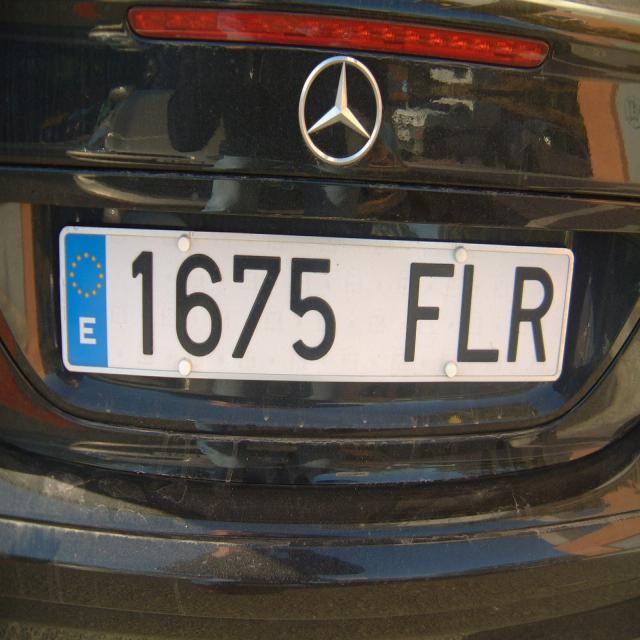license_plate-34Td: (60, 226, 574, 381)
